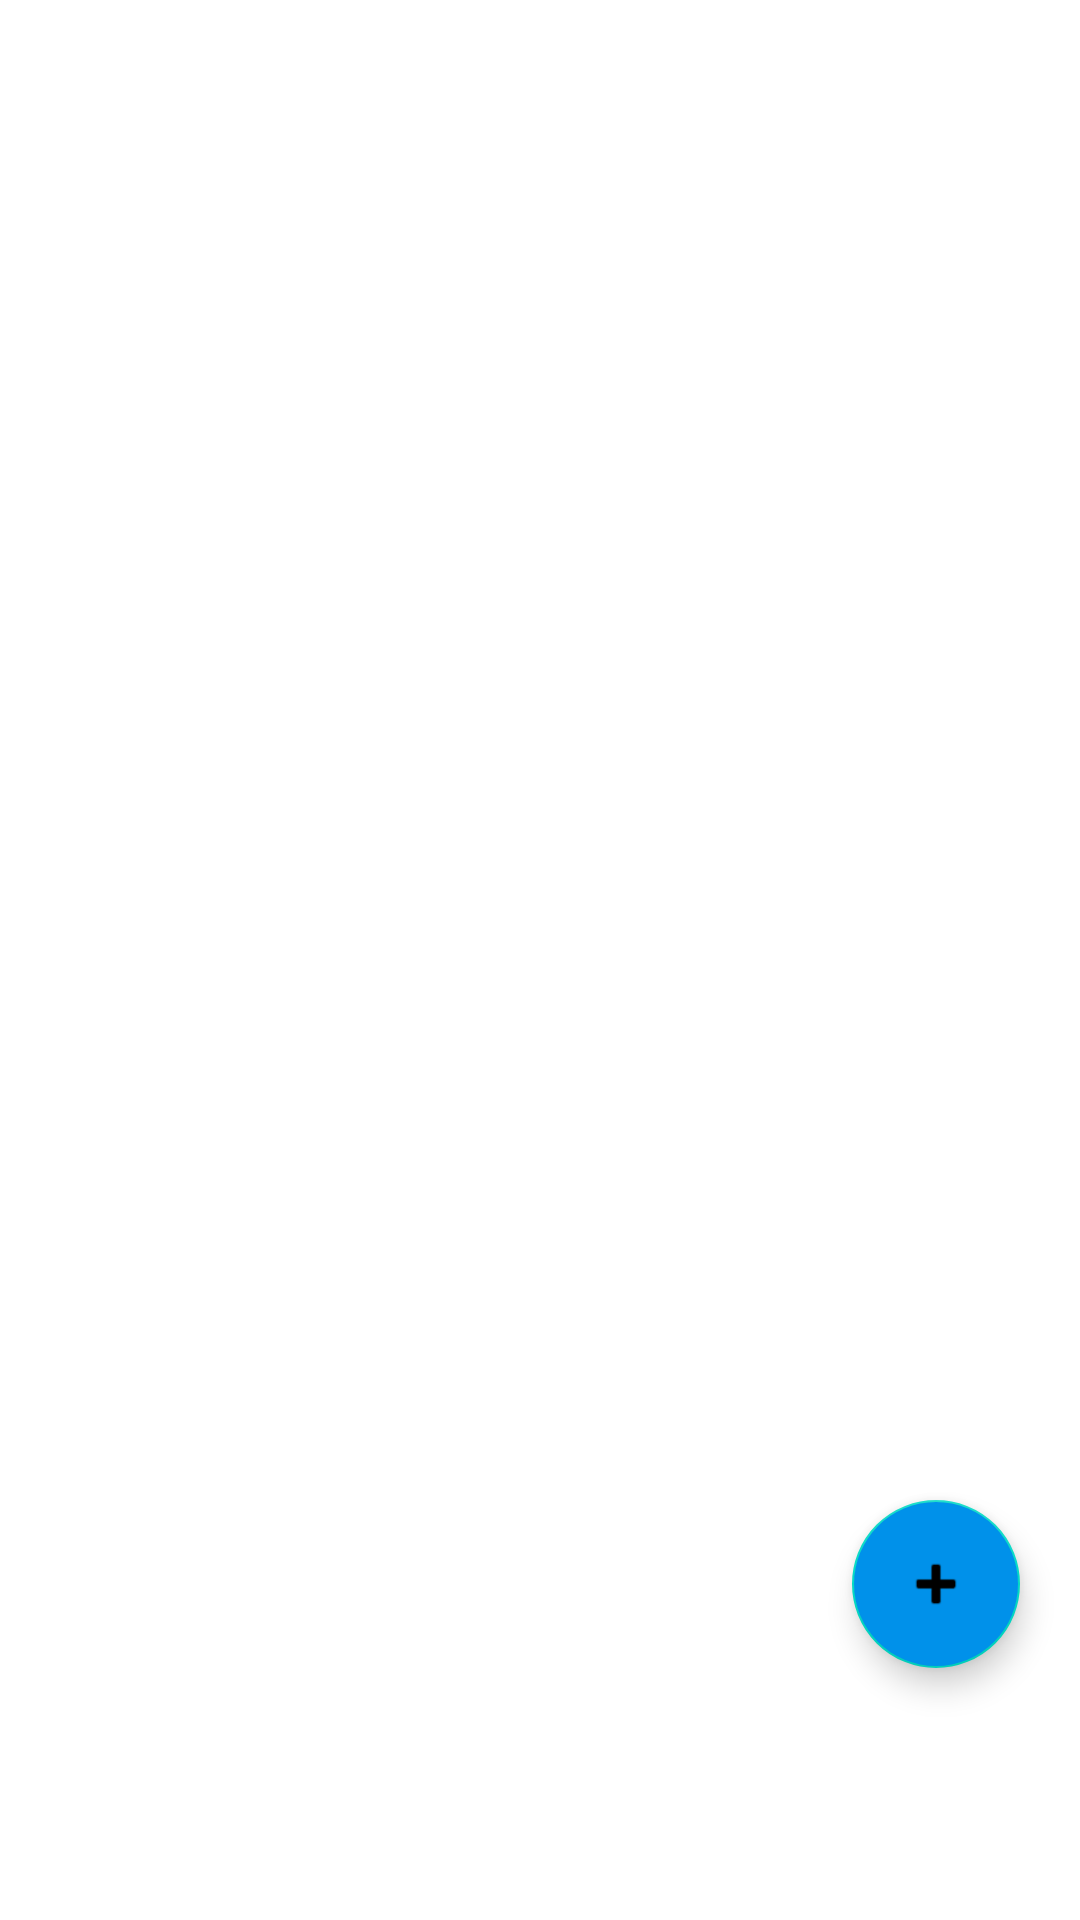

Icons on this 1080*1920 Android screen, each with the point to tap as [x,y]:
add: [936,1584]
